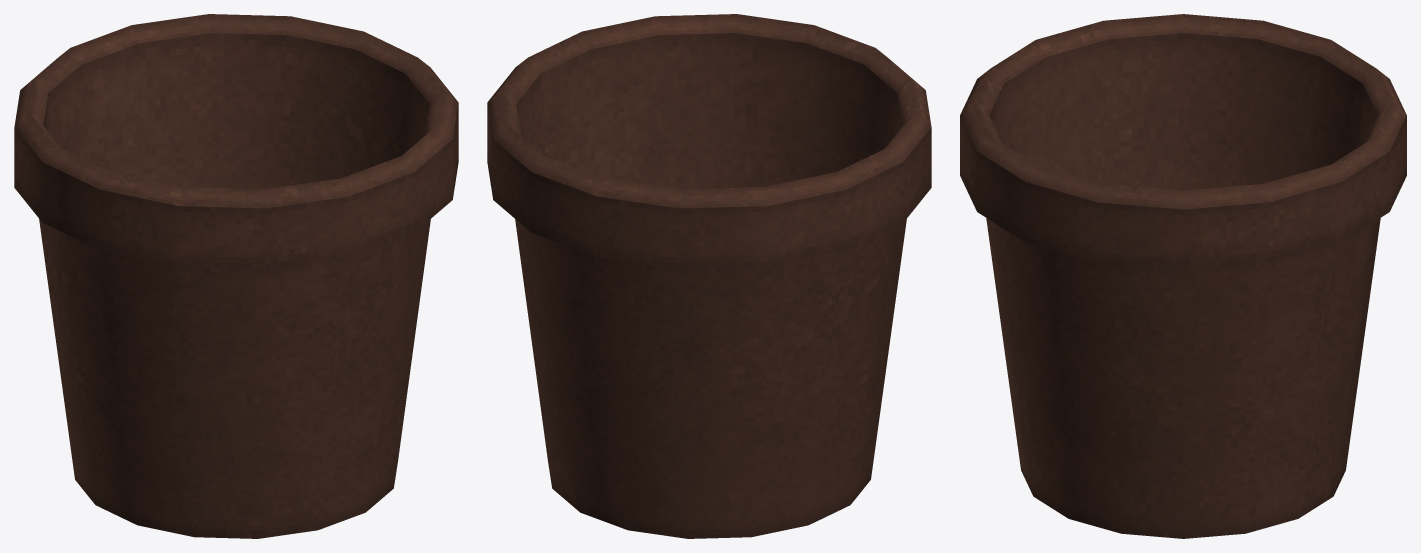
Rendered from planter_pot_mp_1_empty.glb.
3 renders of one model, left to right at view 1: azimuth 30°, elevation 25°; view 2: azimuth 150°, elevation 25°; view 3: azimuth 270°, elevation 25°, orthographic.
Parts seen in each view (by area): view 1: planter_pot_mp_1_empty; view 2: planter_pot_mp_1_empty; view 3: planter_pot_mp_1_empty.
Boxes of the visible parts, bbox=[...] form: planter_pot_mp_1_empty: bbox=[14, 14, 458, 538]; planter_pot_mp_1_empty: bbox=[487, 14, 931, 538]; planter_pot_mp_1_empty: bbox=[960, 14, 1406, 538].
Size of the model in its own units: 0.1936 by 0.176 by 0.1936.
Materials: 1 (1 with a texture image).
